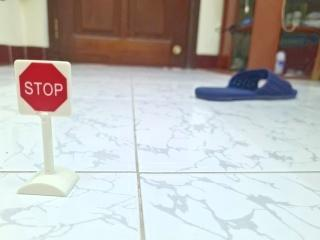stop: (6, 50, 79, 127)
